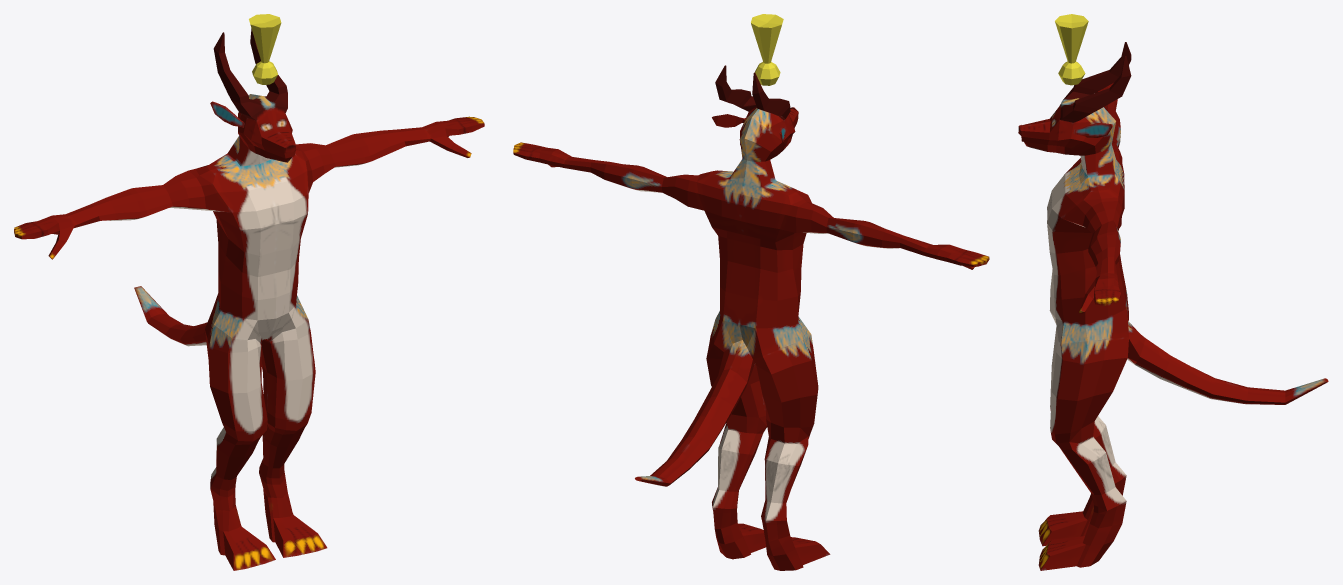
File: LowPolyMazda.glb
3 views of the same model, side by side, from view 1: azimuth 30°, elevation 25°; view 2: azimuth 150°, elevation 25°; view 3: azimuth 270°, elevation 25° (orthographic).
Parts seen in each view (by area): view 1: VISUAL_body, ICON_interact; view 2: VISUAL_body, ICON_interact; view 3: VISUAL_body, ICON_interact.
Boxes of the visible parts, left/top/right/bottom form: VISUAL_body: left=14, top=28, right=484, bottom=570; ICON_interact: left=249, top=14, right=281, bottom=84; VISUAL_body: left=513, top=65, right=989, bottom=570; ICON_interact: left=751, top=14, right=783, bottom=85; VISUAL_body: left=1018, top=42, right=1328, bottom=570; ICON_interact: left=1055, top=14, right=1088, bottom=85.
Size of what is drawn, in the model's own units: 1.97 by 2.13 by 1.14.
2 materials, 1 textured.
